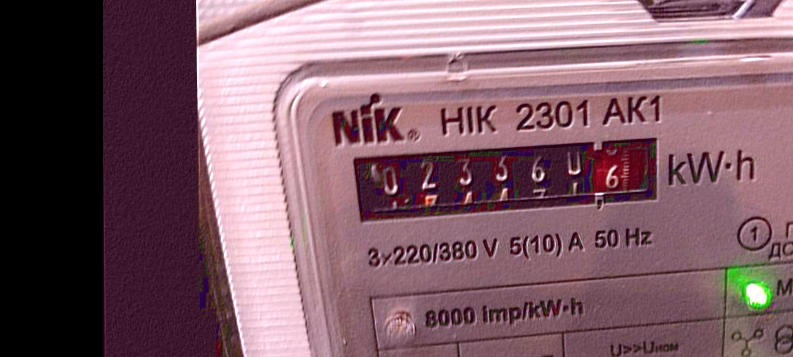0: (380, 162, 403, 197), (563, 146, 585, 177)
2: (419, 157, 440, 190)
3: (455, 155, 475, 187), (493, 149, 512, 182)
6: (528, 151, 550, 184), (603, 159, 625, 192)
screen: (338, 128, 677, 227)
